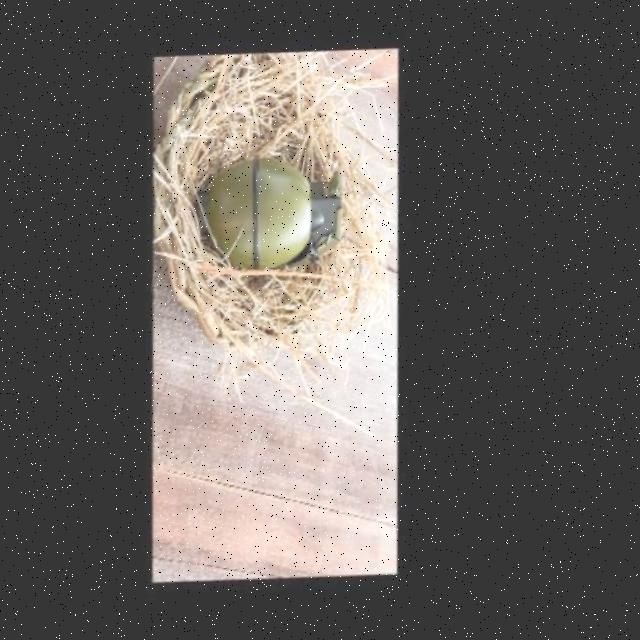grenade: (186, 128, 363, 278)
